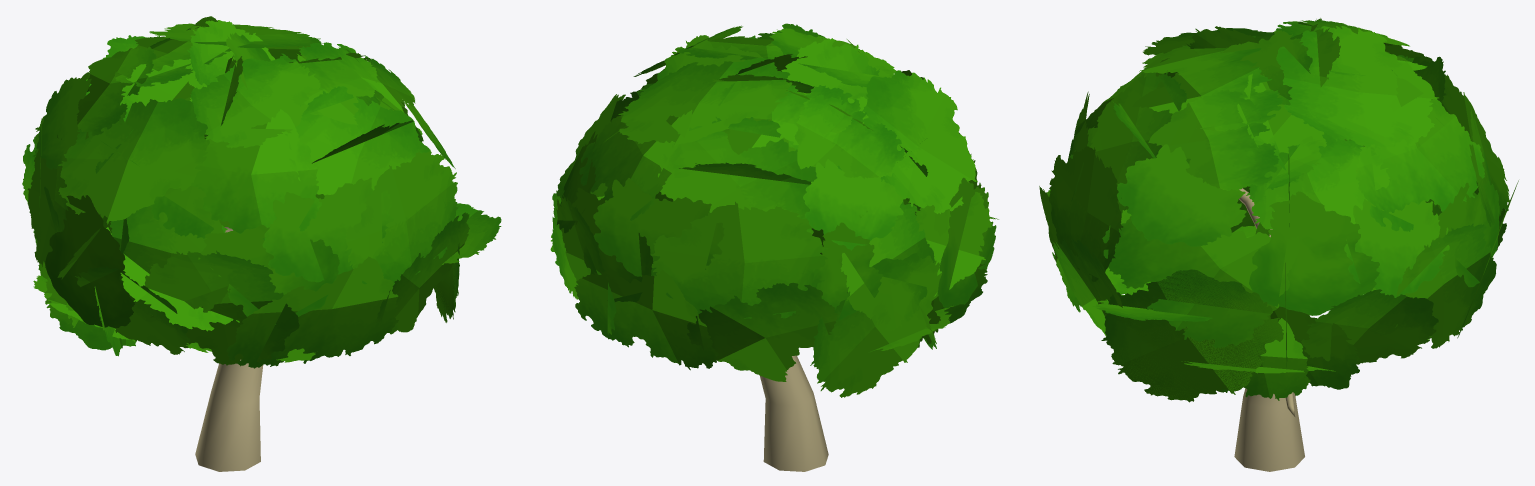
Rendered from Kanker.fbx.
The picture shows the model from 3 angles, left to right: view 1: azimuth 30°, elevation 25°; view 2: azimuth 150°, elevation 25°; view 3: azimuth 270°, elevation 25°; orthographic projection. The views are drawn at different scales.
Visible parts, largest first — view 1: Leafs, OakTree_v1, TreeTop; view 2: Leafs, OakTree_v1, TreeTop; view 3: Leafs, OakTree_v1, TreeTop.
Boxes of the visible parts, box(x1,y1,x2,y2) form: Leafs: box(22, 16, 501, 368); OakTree_v1: box(195, 393, 260, 471); TreeTop: box(211, 227, 263, 405); Leafs: box(550, 23, 998, 397); OakTree_v1: box(763, 393, 828, 471); TreeTop: box(759, 355, 813, 405); Leafs: box(1039, 18, 1518, 402); OakTree_v1: box(1234, 397, 1304, 471); TreeTop: box(1239, 188, 1295, 416).
Bounding box in the file's own units: 42.94 × 41.59 × 41.87.
